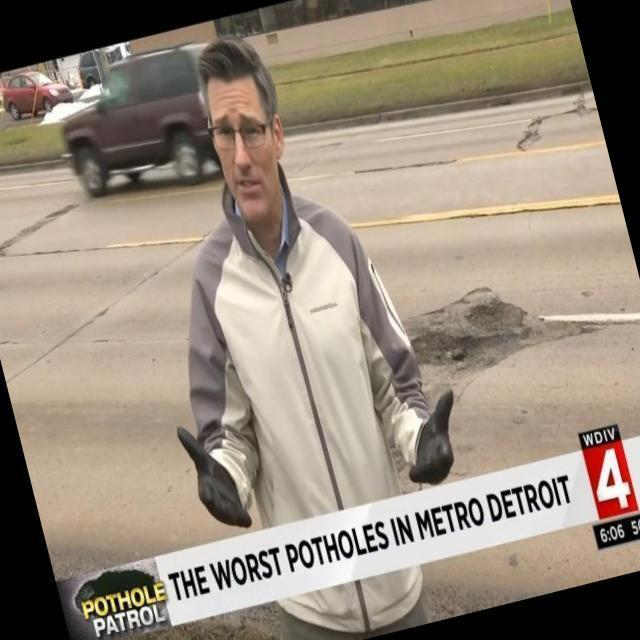Pothole: (406, 287, 588, 391)
